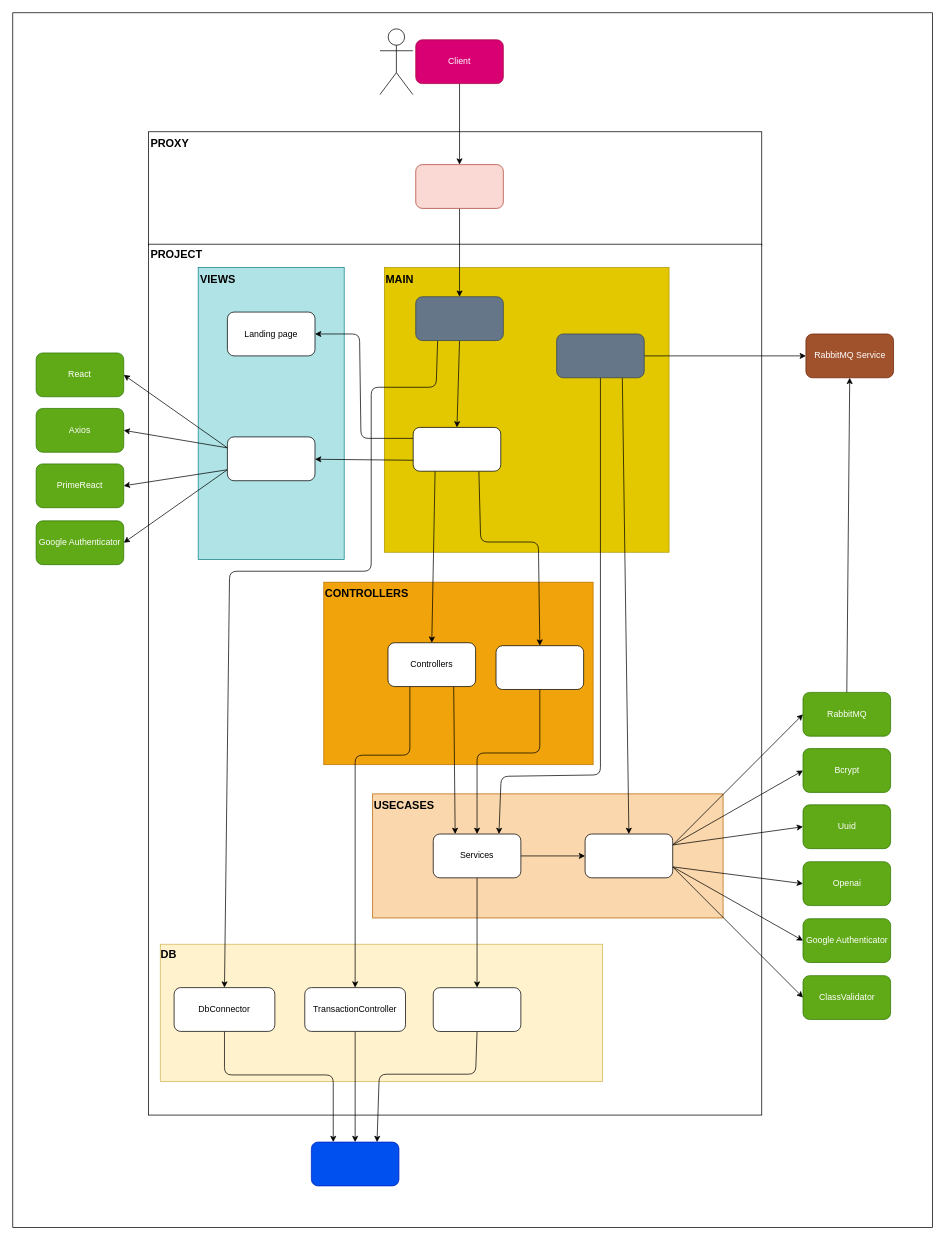
Some shapes in this 945 by 1240 pixel diagram are drawn without their labels. The centre of each missing label's shape, as x and y in pixels:
"Adapters" belongs at pixel 628 855.
"Api" belongs at pixel 459 318.
"App (SPA)" belongs at pixel 271 458.
"Middlewares" belongs at pixel 539 667.
"Models" belongs at pixel 477 1009.
"Nginx" belongs at pixel 459 186.
"Postgres" belongs at pixel 355 1163.
"QueueConsumer" belongs at pixel 600 355.
"Routes" belongs at pixel 456 449.
